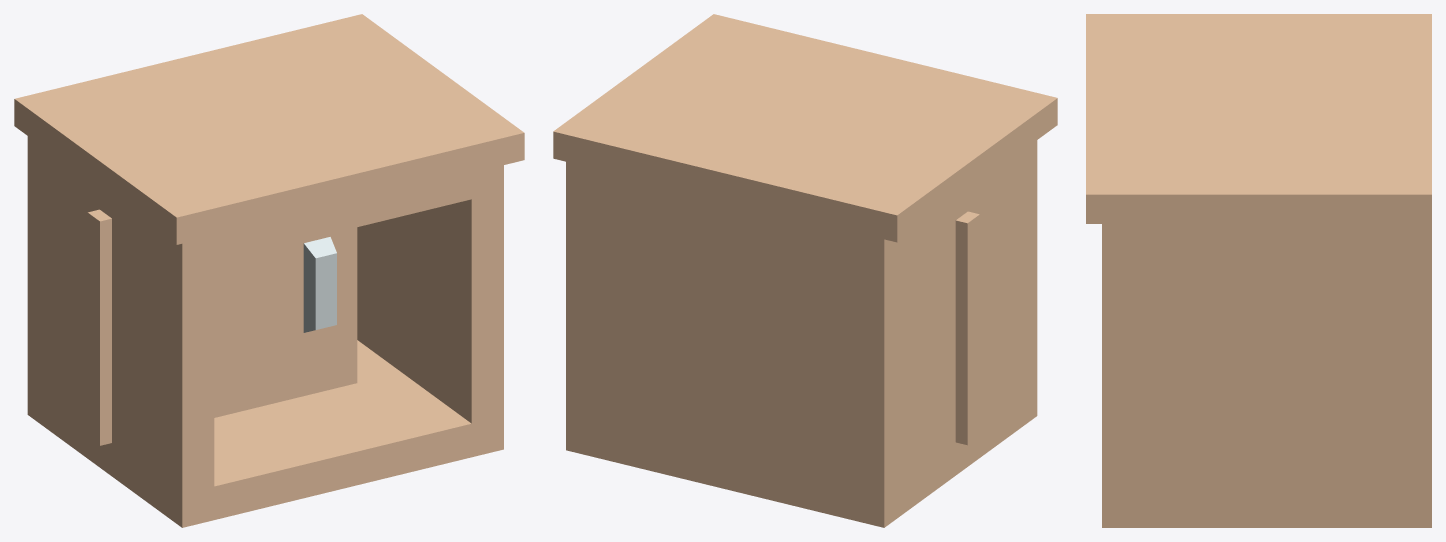
Rendered from cabinetBed.glb.
3 renders of one model, left to right at view 1: azimuth 30°, elevation 25°; view 2: azimuth 150°, elevation 25°; view 3: azimuth 270°, elevation 25°, orthographic. The views are drawn at different scales.
Parts seen in each view (by area): view 1: cabinetBed, cabinetBed.001; view 2: cabinetBed, cabinetBed.001; view 3: cabinetBed.
Part boxes in pixels (x1,y1,x2,y2): cabinetBed: (14,14,524,527); cabinetBed.001: (87,209,357,445); cabinetBed: (553,14,1057,527); cabinetBed.001: (955,211,979,445); cabinetBed: (1086,14,1431,527).
Bounding box in the file's own units: 0.7714 × 0.6763 × 0.6235.
